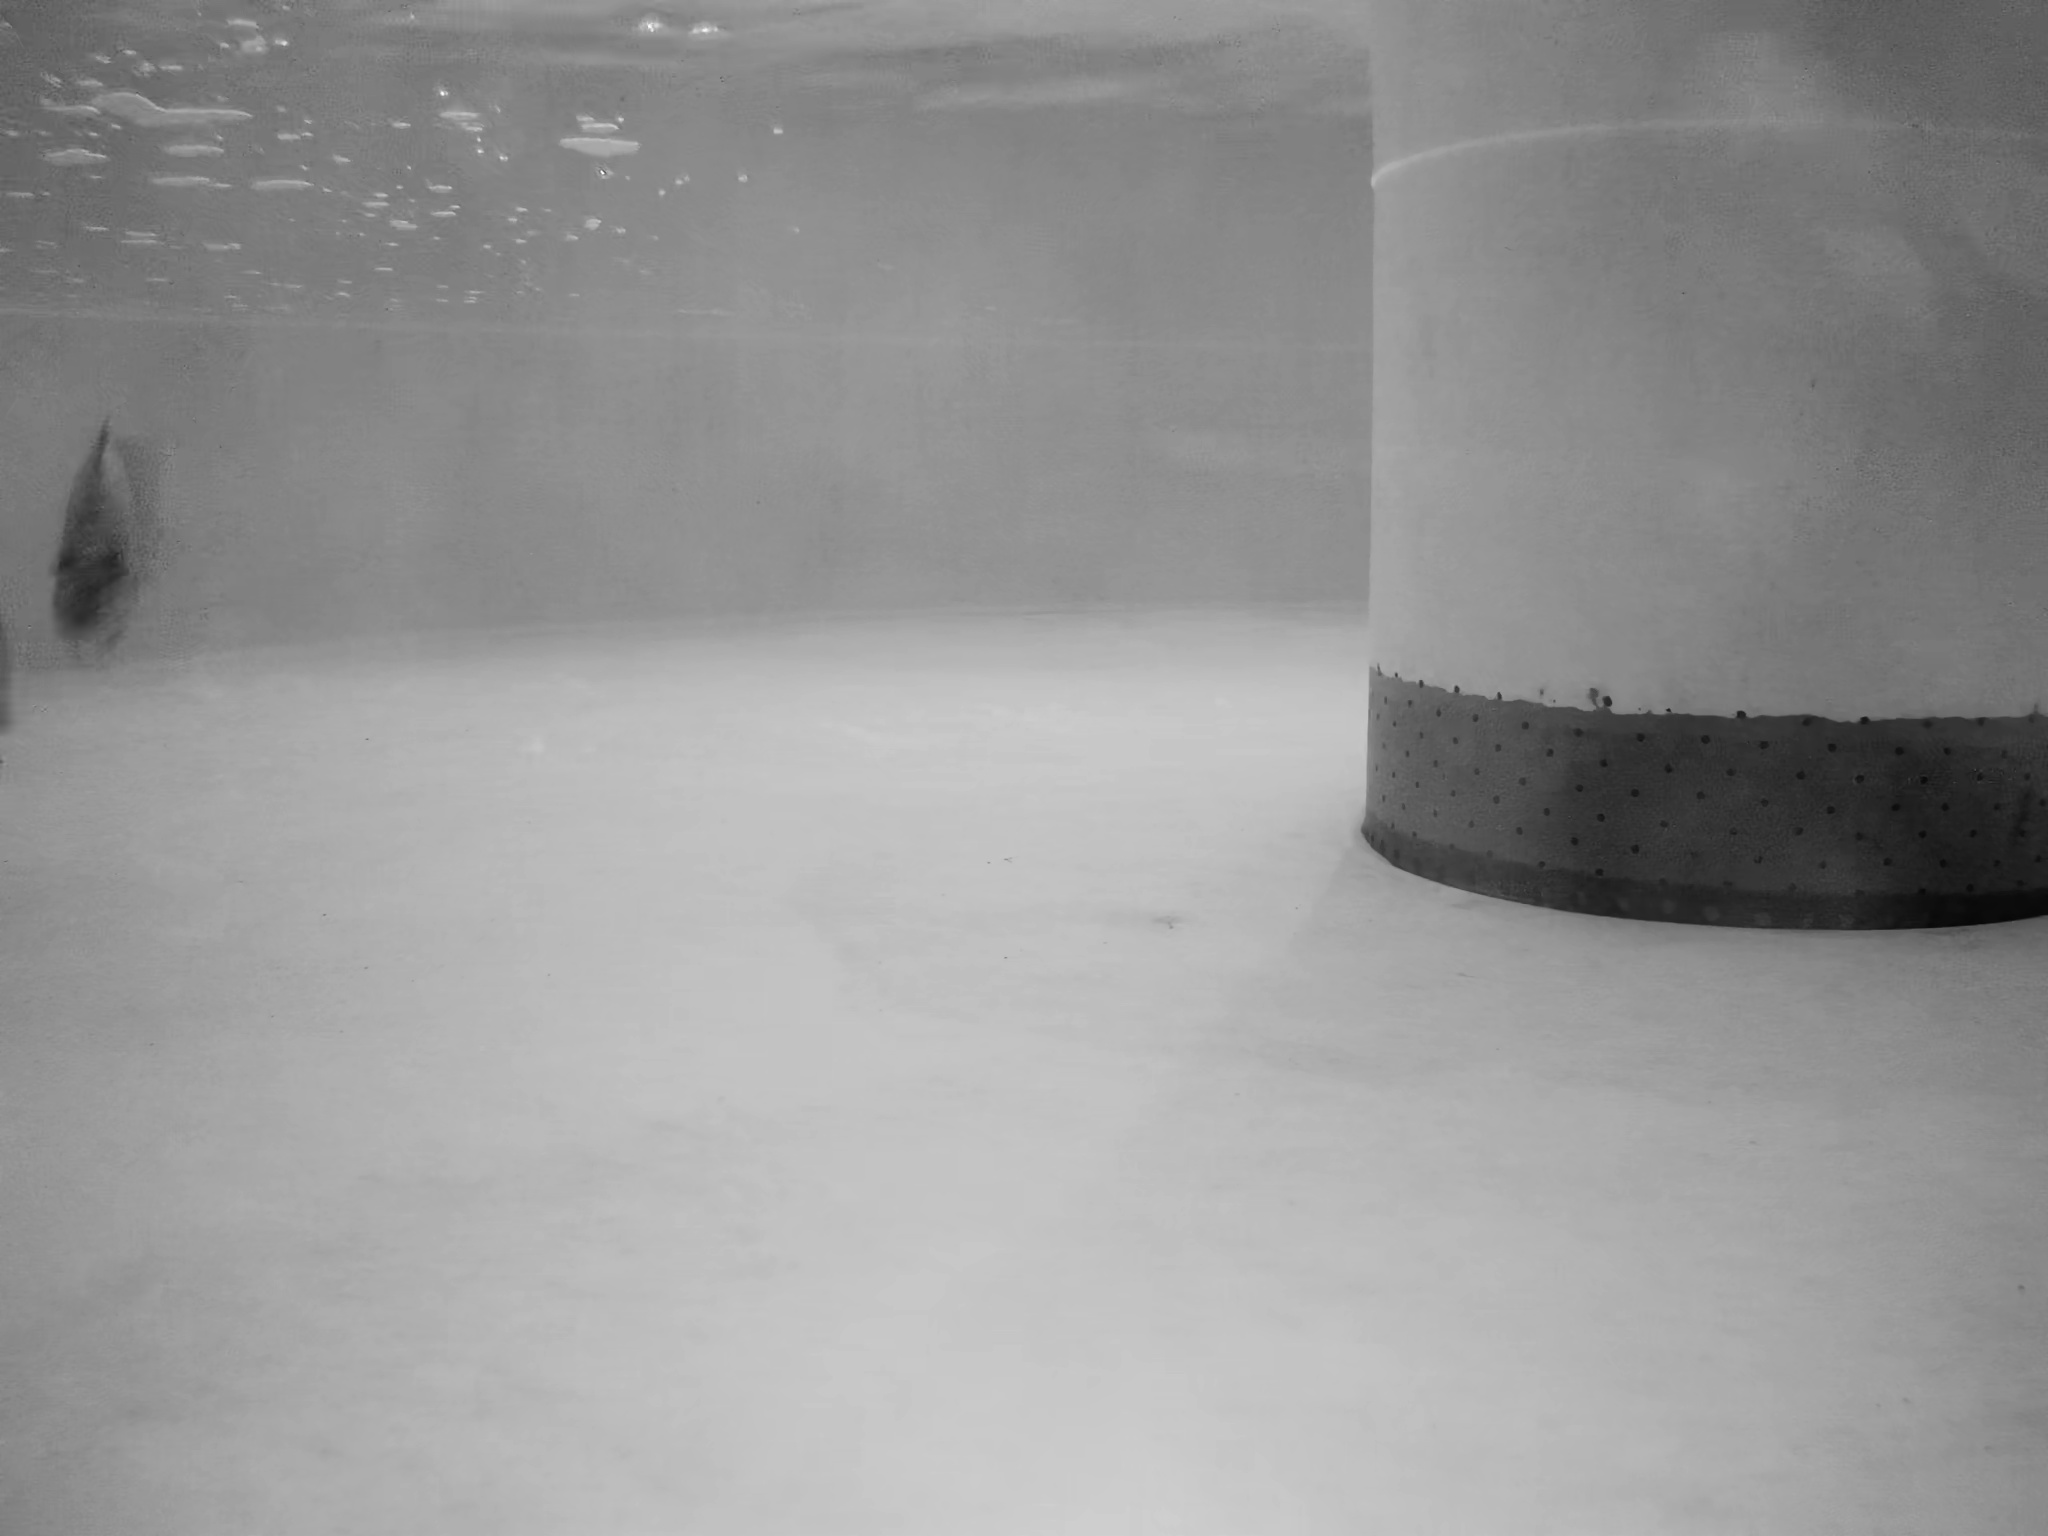fish: (55, 415, 176, 697)
